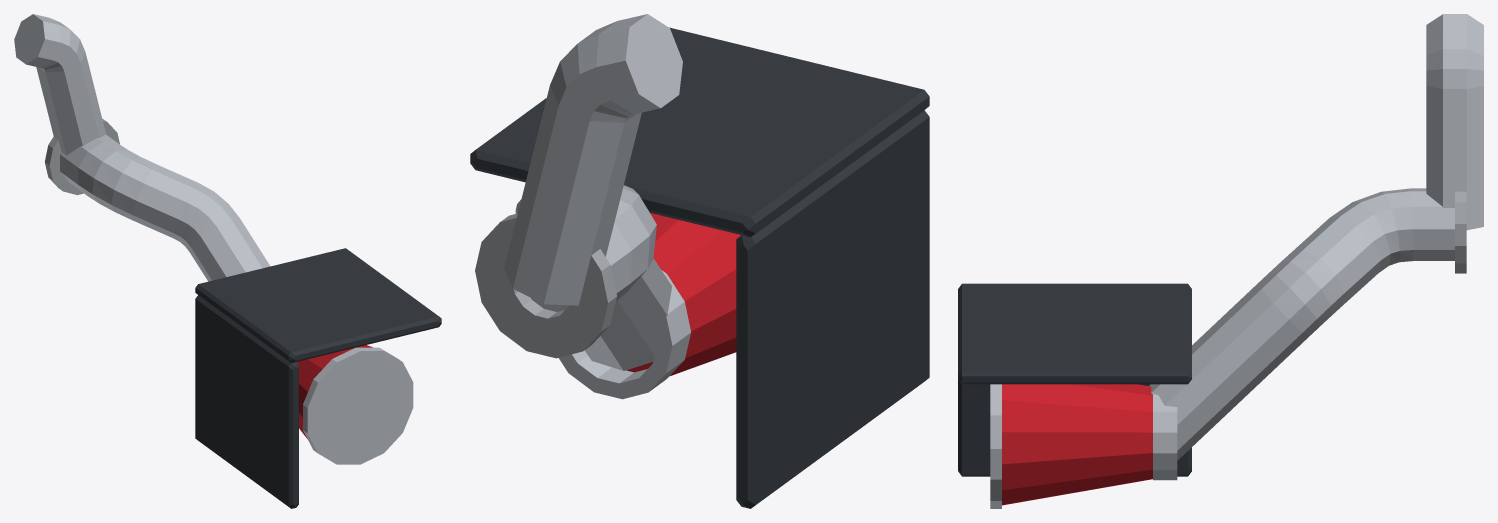
The model's file is hana_roadster.glb.
3 views of the same model, side by side, from view 1: azimuth 30°, elevation 25°; view 2: azimuth 150°, elevation 25°; view 3: azimuth 270°, elevation 25° (orthographic). The views are drawn at different scales.
Parts seen in each view (by area): view 1: model; view 2: model; view 3: model.
Boxes of the visible parts, x1=… form: model: x1=14, y1=14, x2=441, y2=508; model: x1=470, y1=14, x2=929, y2=508; model: x1=958, y1=14, x2=1483, y2=508.
Bounding box in the file's own units: 0.3121 × 0.4869 × 0.5396.
2 materials, 1 textured.
